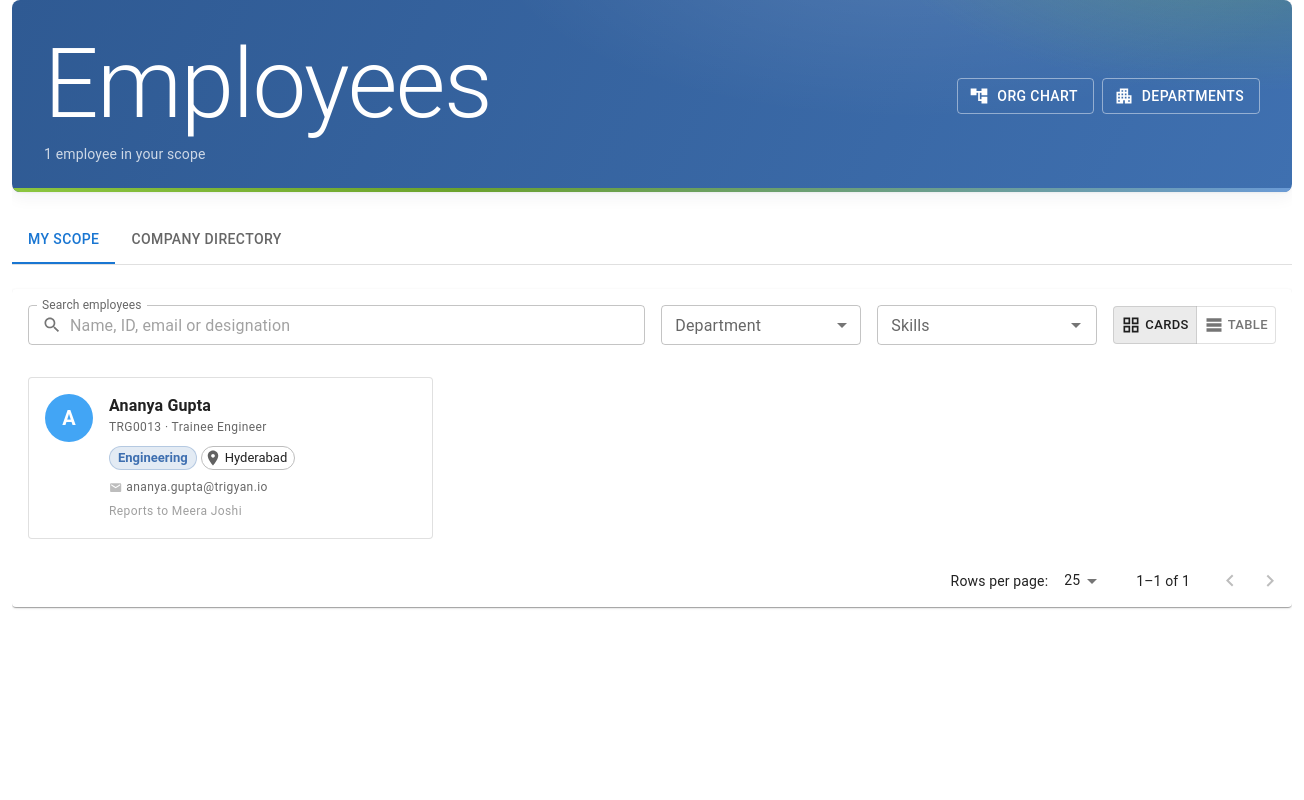
Test case: EmployeesPage, the Role column › keeps every other column for Admin
Expected: the text "Ananya Gupta" is shown, top-left (109, 396), bottom-right (211, 415)
Click the button "Table" at (1236, 325), box top-left (1196, 306), bottom-right (1276, 344)
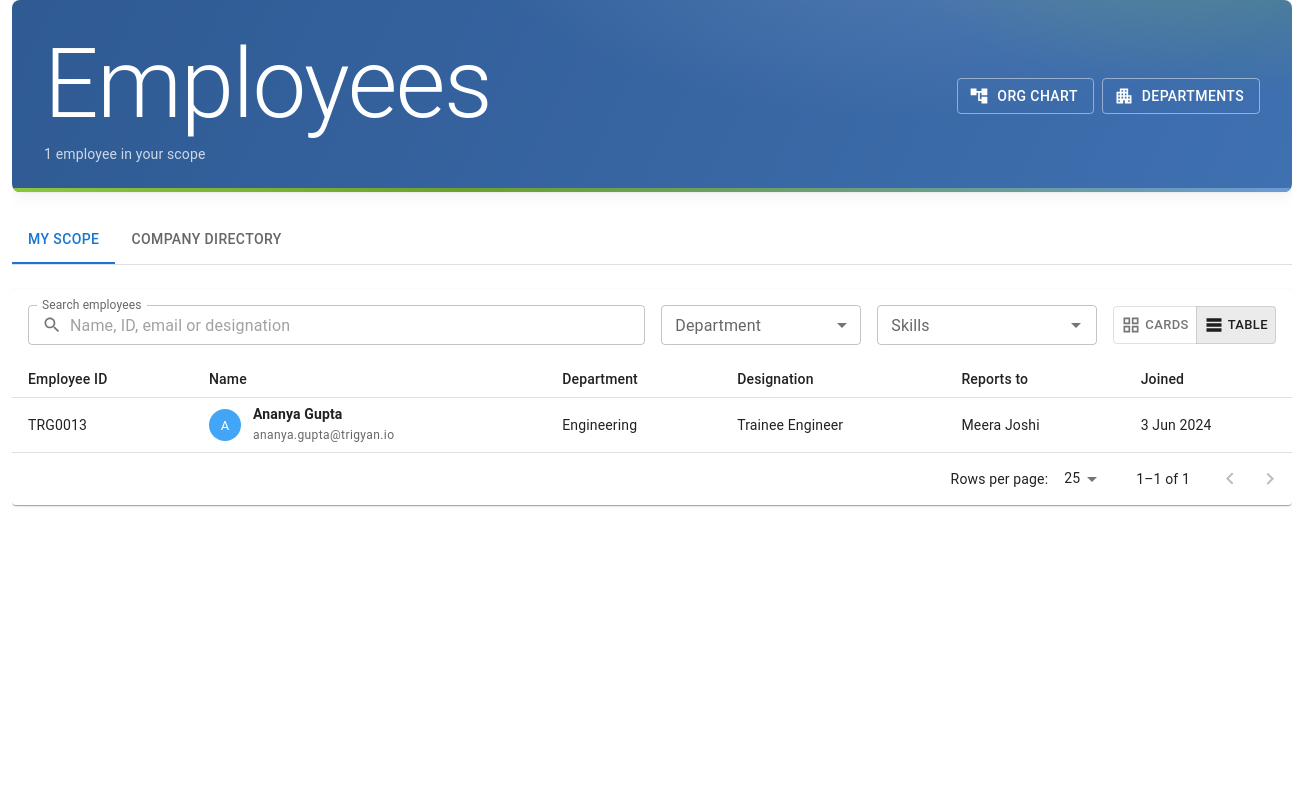
Expected: the column heading "Employee ID" is shown, top-left (12, 361), bottom-right (193, 398)
Expected: the column heading "Name" is shown, top-left (193, 361), bottom-right (546, 398)
Expected: the column heading "Department" is shown, top-left (546, 361), bottom-right (721, 398)
